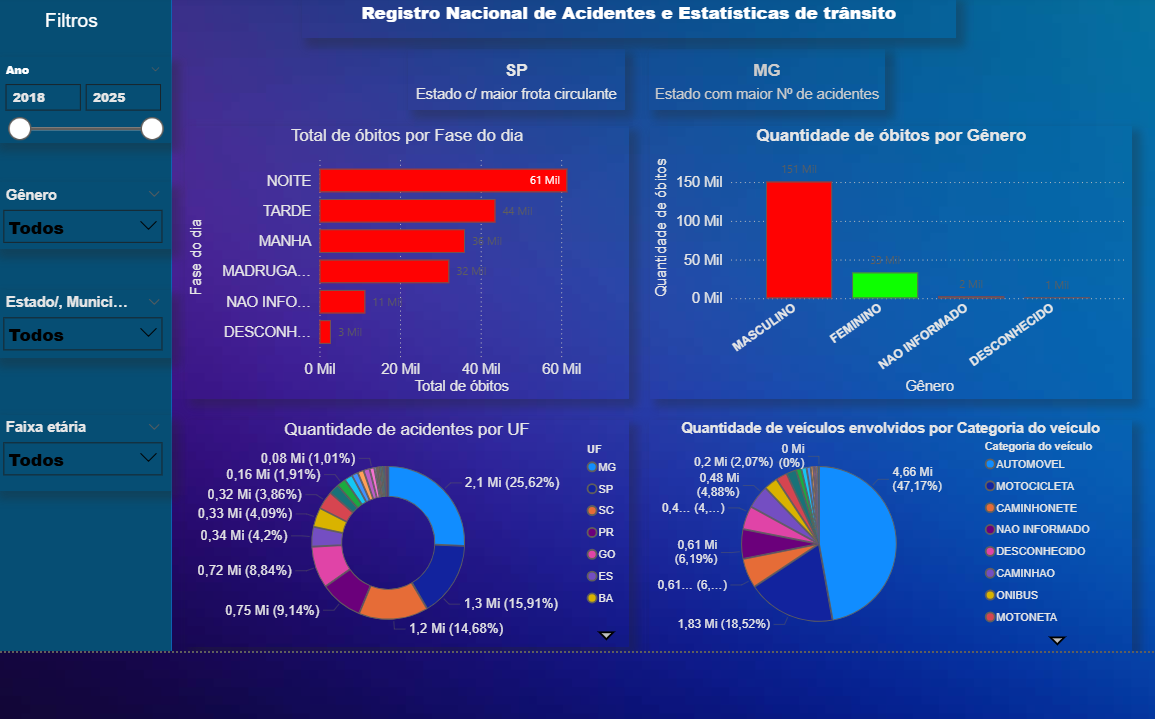

The dashboard page shown, as its layout file describes it:
{"tool":"powerbi","page":{"name":"Página 1","canvas":[1280,720],"ordinal":0},"visuals":[{"type":"shape","box":[0,0,195.3,720.3],"z":0,"group":"g1"},{"type":"pieChart","fields":{"Category":["TipoVeiculo_DadosAbertos_20260212.tipo_veiculo"],"Y":["CountNonNull(TipoVeiculo_DadosAbertos_20260212.qtde_veiculos)"]},"box":[718.6,464.6,530.5,255.4],"z":0},{"type":"slicer","fields":{"Values":["Vitimas_DadosAbertos_20260212.ano_acidente"]},"box":[0,66.8,194.8,93.2],"z":1000,"group":"g1"},{"type":"clusteredColumnChart","fields":{"Category":["Vitimas_DadosAbertos_20260212.genero"],"Y":["Sum(Vitimas_DadosAbertos_20260212.qtde_obitos)"]},"box":[720,143.2,529.1,298.9],"z":1000},{"type":"slicer","fields":{"Values":["Vitimas_DadosAbertos_20260212.genero"]},"box":[0,204.5,194.8,73.7],"z":2000,"group":"g1"},{"type":"donutChart","fields":{"Category":["Acidentes_DadosAbertos_20260212.uf_acidente"],"Y":["CountNonNull(Acidentes_DadosAbertos_20260212.Código_acidente)"]},"box":[210.5,464.6,487,249.8],"z":2000},{"type":"clusteredBarChart","fields":{"Category":["Acidentes_DadosAbertos_20260212.fase_dia"],"Y":["Sum(Acidentes_DadosAbertos_20260212.qtde_obitos)"]},"box":[210.5,143.2,487,298.9],"z":3000},{"type":"slicer","fields":{"Values":["Vitimas_DadosAbertos_20260212.faixa_idade"]},"box":[0,459.1,194.8,83.5],"z":3000,"group":"g1"},{"type":"group","id":"g1","title":"Grupo 1","box":[0,0,195.1,720],"z":4000},{"type":"slicer","fields":{"Values":["Localidade_DadosAbertos_20260212.uf","Localidade_DadosAbertos_20260212.municipio"]},"box":[0,322.8,194.8,75.1],"z":4000,"group":"g1"},{"type":"textbox","box":[32,9.7,107.1,57],"z":4500,"group":"g1"},{"type":"textbox","box":[338.2,0,718.6,46.3],"z":5000},{"type":"card","fields":{"Values":["Localidade_DadosAbertos_20260212.Estado c/ maior frota circulante"]},"box":[454.2,57.6,238.8,67.2],"z":7000},{"type":"card","fields":{"Values":["Acidentes_DadosAbertos_20260212.Estado com maior Nº de acidentes"]},"box":[719,57.6,259.3,67.2],"z":8000}]}

Visuals, with their boxes on the page's 1280x720 design canvas (x1, y1, x2, y2). These are canvas units, not pixel positions in the 1155x719 screenshot, which may show the page scaled, cropped or inside an application window:
shape: crop(0, 0, 195, 720)
pieChart - TipoVeiculo_DadosAbertos_20260212.tipo_veiculo x CountNonNull(TipoVeiculo_DadosAbertos_20260212.qtde_veiculos): crop(719, 465, 1249, 720)
slicer - Vitimas_DadosAbertos_20260212.ano_acidente: crop(0, 67, 195, 160)
clusteredColumnChart - Vitimas_DadosAbertos_20260212.genero x Sum(Vitimas_DadosAbertos_20260212.qtde_obitos): crop(720, 143, 1249, 442)
slicer - Vitimas_DadosAbertos_20260212.genero: crop(0, 204, 195, 278)
donutChart - Acidentes_DadosAbertos_20260212.uf_acidente x CountNonNull(Acidentes_DadosAbertos_20260212.Código_acidente): crop(210, 465, 698, 714)
clusteredBarChart - Acidentes_DadosAbertos_20260212.fase_dia x Sum(Acidentes_DadosAbertos_20260212.qtde_obitos): crop(210, 143, 698, 442)
slicer - Vitimas_DadosAbertos_20260212.faixa_idade: crop(0, 459, 195, 543)
"Grupo 1" group: crop(0, 0, 195, 720)
slicer - Localidade_DadosAbertos_20260212.uf x Localidade_DadosAbertos_20260212.municipio: crop(0, 323, 195, 398)
textbox: crop(32, 10, 139, 67)
textbox: crop(338, 0, 1057, 46)
card - Localidade_DadosAbertos_20260212.Estado c/ maior frota circulante: crop(454, 58, 693, 125)
card - Acidentes_DadosAbertos_20260212.Estado com maior Nº de acidentes: crop(719, 58, 978, 125)
